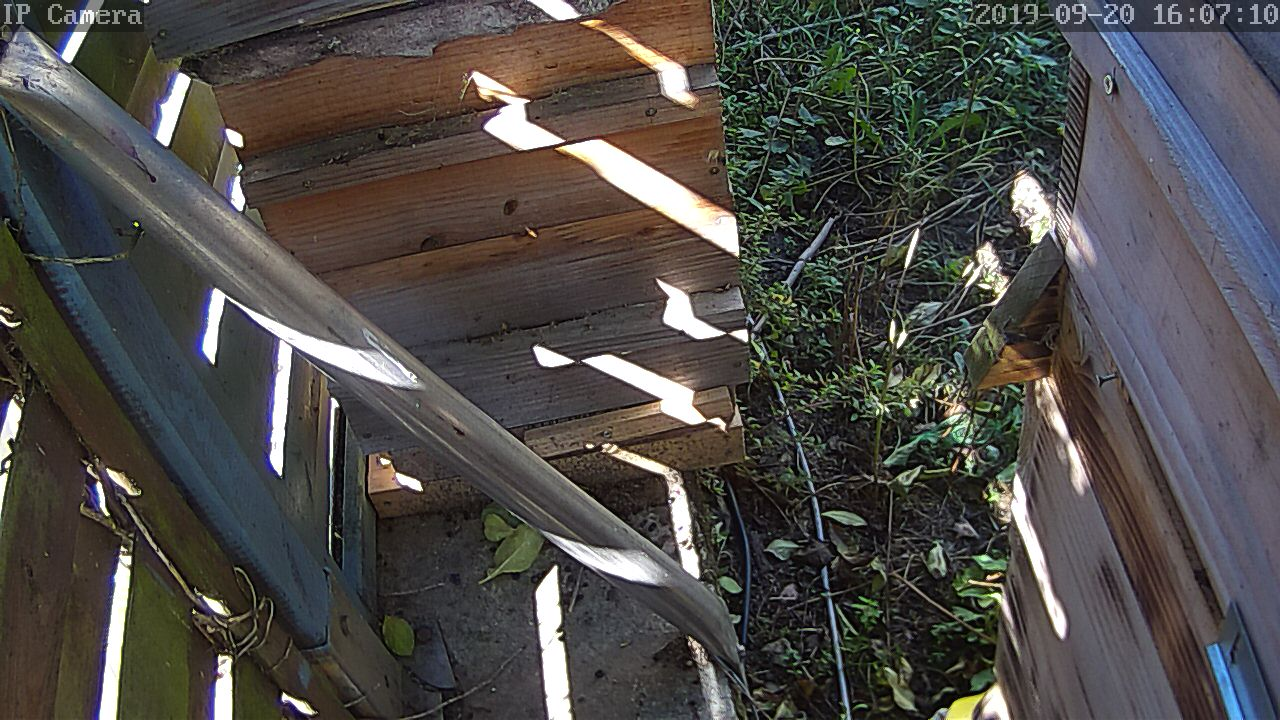hornet: (19, 9, 1232, 720)
